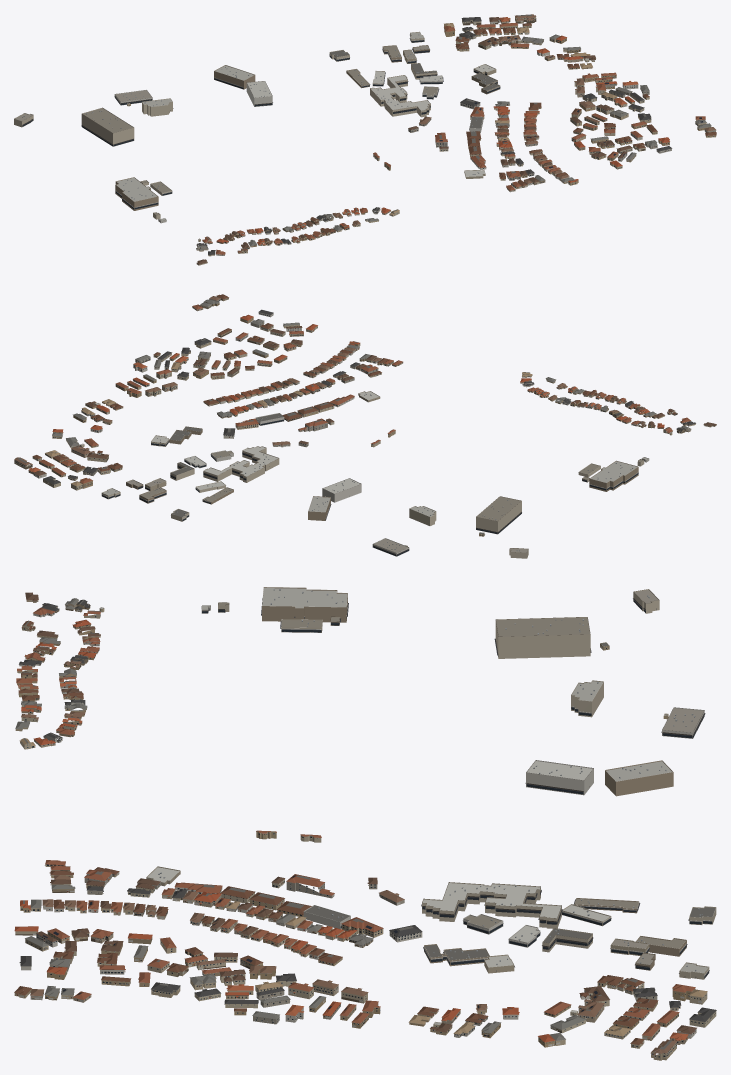
3 renders of one model, top to bottom at view 1: azimuth 30°, elevation 25°; view 2: azimuth 150°, elevation 25°; view 3: azimuth 270°, elevation 25°, orthographic. The views are drawn at different scales.
Visible parts, largest first — view 1: buildings_r4_c7_lod0; view 2: buildings_r4_c7_lod0; view 3: buildings_r4_c7_lod0.
Boxes of the visible parts, x1=… form: buildings_r4_c7_lod0: x1=14, y1=14, x2=716, y2=265; buildings_r4_c7_lod0: x1=14, y1=294, x2=716, y2=558; buildings_r4_c7_lod0: x1=14, y1=587, x2=716, y2=1060.
Bounding box in the file's own units: 1146 × 86.58 × 802.
